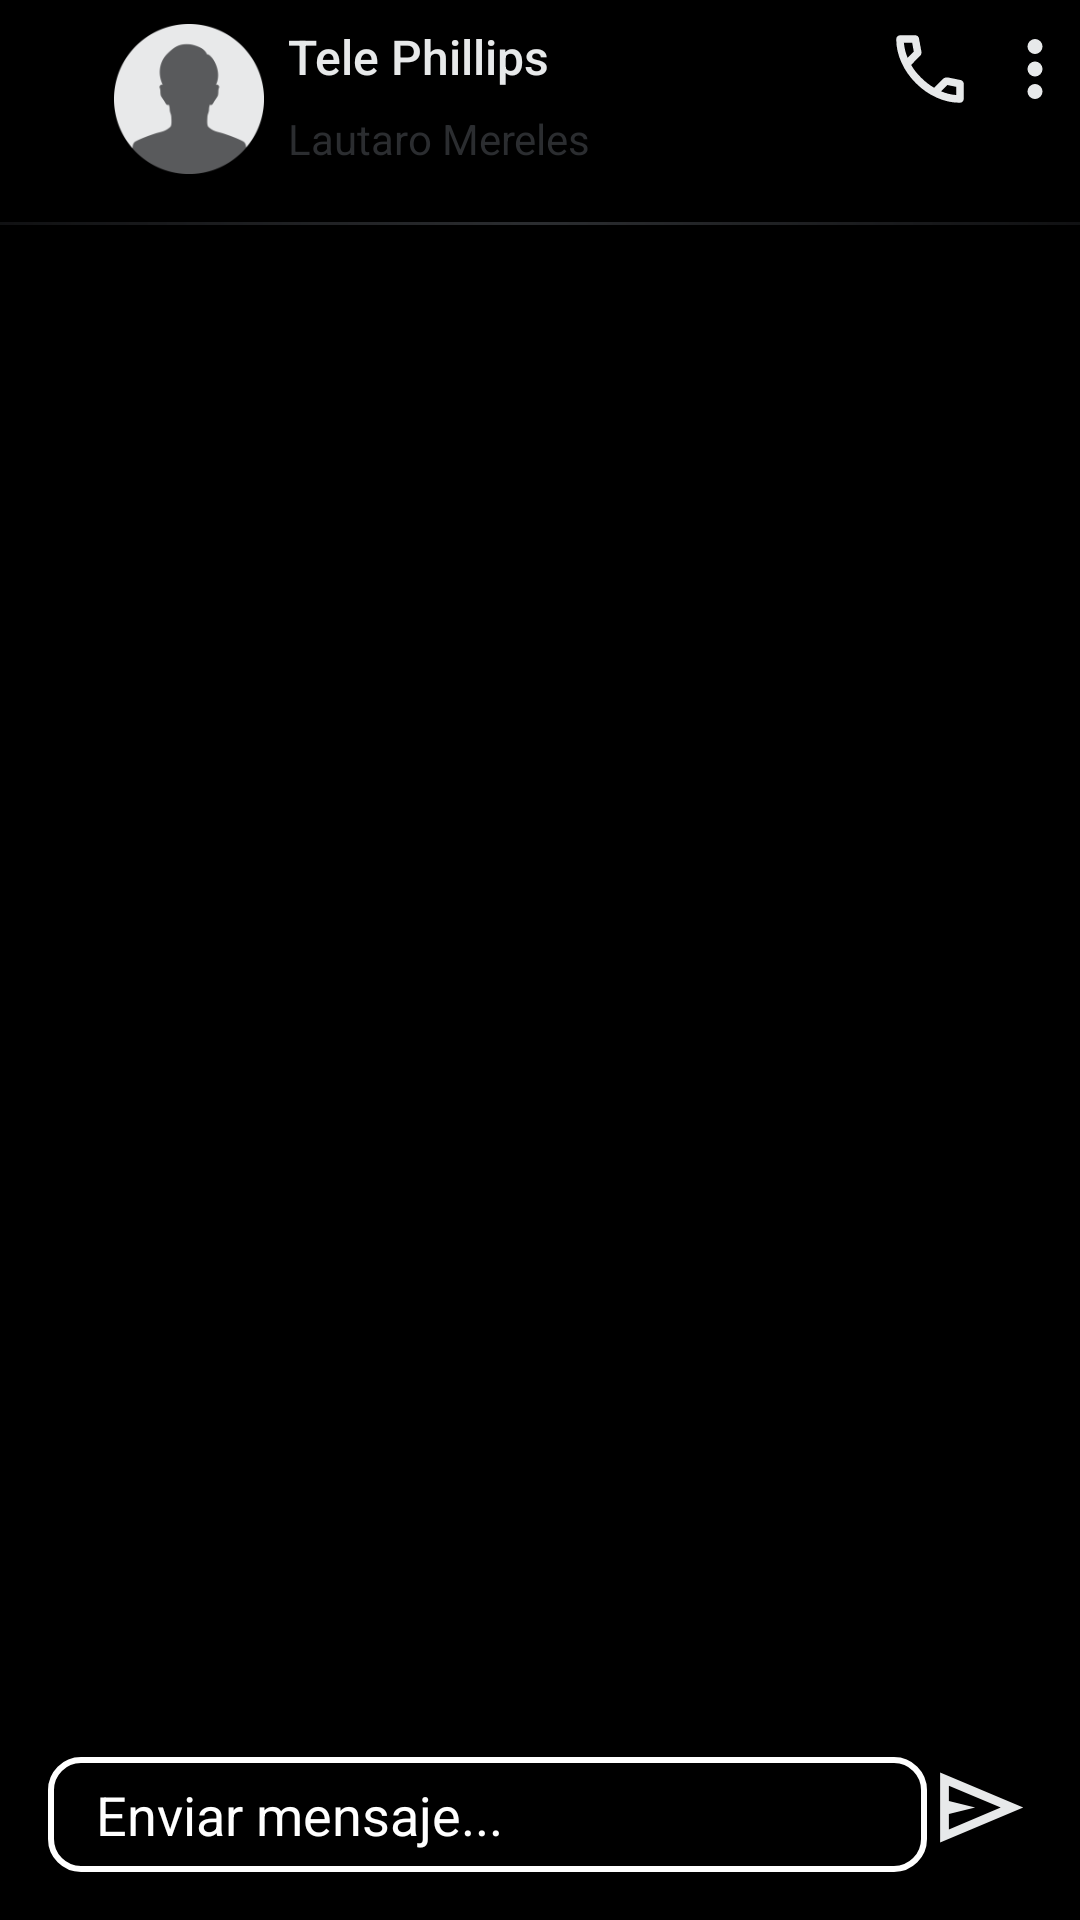

Locate icon controls on the screen. Image size 1080px×1920px, boxes as BBox(x1, y1, x2, y2).
call: BBox(896, 35, 964, 103)
more vert: BBox(1027, 39, 1043, 99)
profile: BBox(114, 24, 264, 174)
send: BBox(940, 1772, 1023, 1843)
